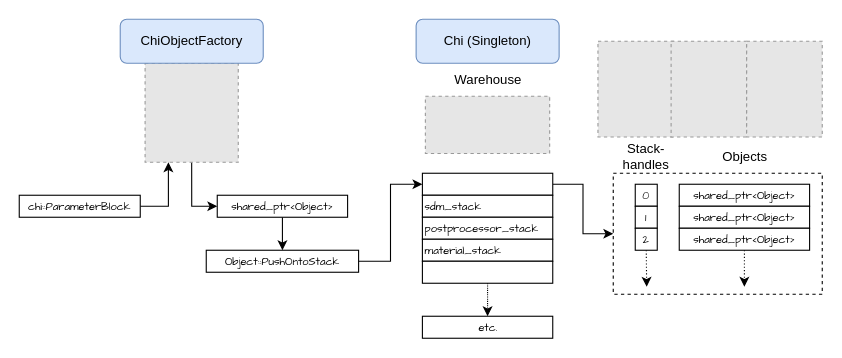
The diagram is 842 pixels wide and 358 high, and some of its shapes have lost their labels. Grey dashed boxes stand in for pictures. Here are the shapes that lost their labels. From the top down, the centre of each, then its label:
At (x=487, y=183): "object_stack".
At (x=487, y=271): "field_function_stack".
